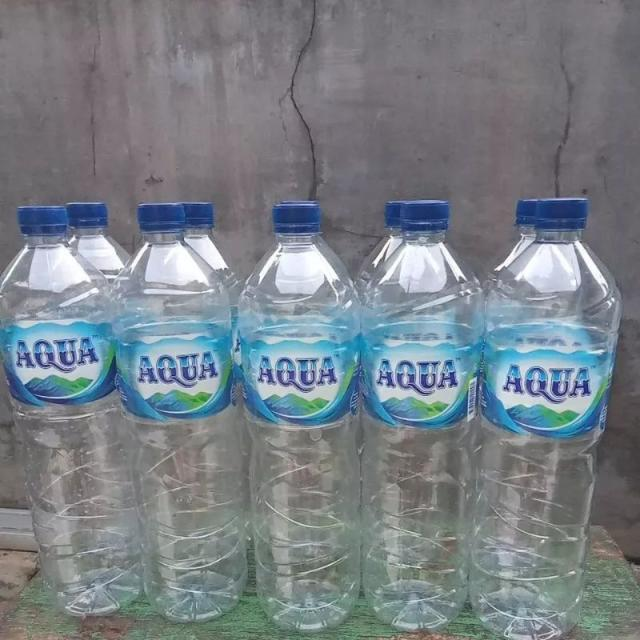bottle: (479, 196, 623, 629), (2, 203, 142, 619), (236, 202, 367, 636), (121, 199, 246, 623), (367, 198, 470, 632)
